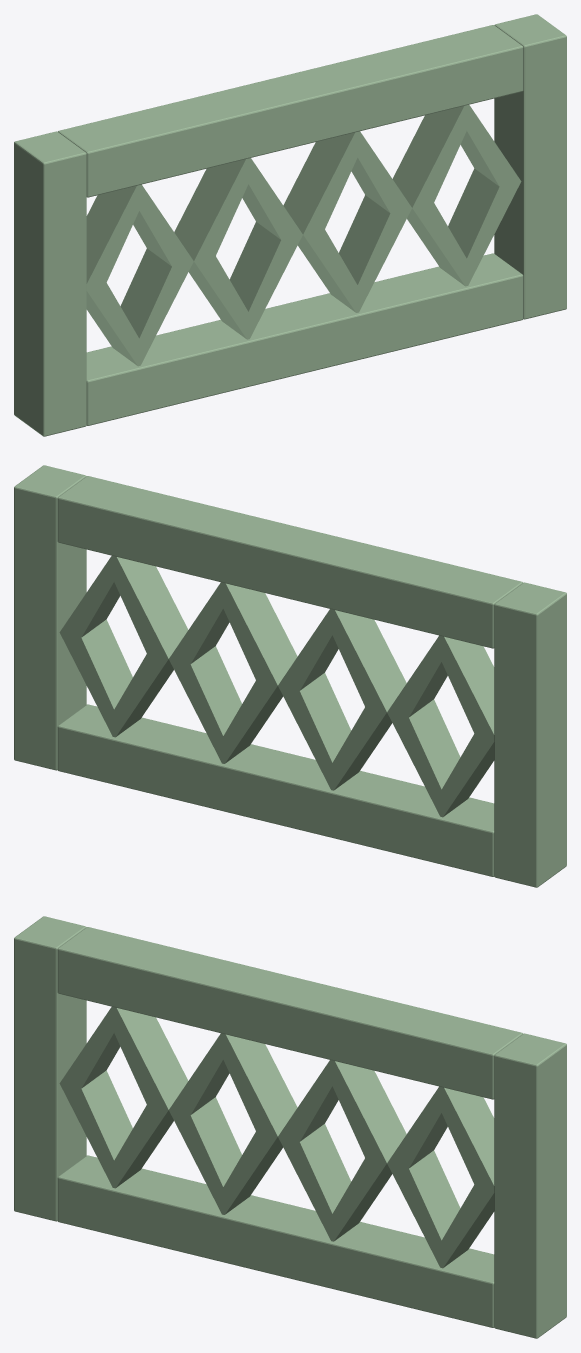
3 views of the same model, one above another, from view 1: azimuth 30°, elevation 25°; view 2: azimuth 150°, elevation 25°; view 3: azimuth 330°, elevation 25° (orthographic).
Visible parts, largest first — view 1: VENT_FrameTop, VENT_FrameBottom, VENT_FrameSide, VENT_FrameSide.001, VENT_Diamond_1_0, VENT_Diamond_2_0, VENT_Diamond_3_0, VENT_Diamond_2_2, VENT_Diamond_1_2, VENT_Diamond_0_2, VENT_Diamond_3_2, VENT_Diamond_0_0 (+8 smaller); view 2: VENT_FrameTop, VENT_FrameBottom, VENT_FrameSide, VENT_FrameSide.001, VENT_Diamond_1_0, VENT_Diamond_2_0, VENT_Diamond_3_0, VENT_Diamond_2_2, VENT_Diamond_1_2, VENT_Diamond_0_2, VENT_Diamond_3_2, VENT_Diamond_0_0 (+8 smaller); view 3: VENT_FrameTop, VENT_FrameBottom, VENT_FrameSide.001, VENT_FrameSide, VENT_Diamond_2_1, VENT_Diamond_1_1, VENT_Diamond_0_1, VENT_Diamond_1_3, VENT_Diamond_2_3, VENT_Diamond_3_3, VENT_Diamond_0_3, VENT_Diamond_3_1 (+8 smaller).
Boxes of the visible parts, x1=… form: VENT_FrameTop: x1=58, y1=25, x2=523, y2=197; VENT_FrameBottom: x1=86, y1=253, x2=523, y2=425; VENT_FrameSide: x1=14, y1=131, x2=86, y2=436; VENT_FrameSide.001: x1=494, y1=14, x2=566, y2=319; VENT_Diamond_1_0: x1=174, y1=158, x2=248, y2=261; VENT_Diamond_2_0: x1=283, y1=132, x2=357, y2=234; VENT_Diamond_3_0: x1=392, y1=105, x2=466, y2=207; VENT_Diamond_2_2: x1=339, y1=195, x2=411, y2=312; VENT_Diamond_1_2: x1=229, y1=222, x2=302, y2=339; VENT_Diamond_0_2: x1=120, y1=248, x2=193, y2=365; VENT_Diamond_3_2: x1=448, y1=168, x2=520, y2=285; VENT_Diamond_0_0: x1=86, y1=185, x2=139, y2=287; VENT_FrameTop: x1=57, y1=476, x2=522, y2=648; VENT_FrameBottom: x1=57, y1=704, x2=494, y2=876; VENT_FrameSide: x1=494, y1=582, x2=566, y2=887; VENT_FrameSide.001: x1=14, y1=465, x2=86, y2=770; VENT_Diamond_1_0: x1=332, y1=609, x2=406, y2=712; VENT_Diamond_2_0: x1=223, y1=583, x2=297, y2=685; VENT_Diamond_3_0: x1=114, y1=556, x2=188, y2=658; VENT_Diamond_2_2: x1=169, y1=646, x2=241, y2=763; VENT_Diamond_1_2: x1=278, y1=673, x2=351, y2=790; VENT_Diamond_0_2: x1=387, y1=699, x2=460, y2=816; VENT_Diamond_3_2: x1=60, y1=619, x2=132, y2=736; VENT_Diamond_0_0: x1=441, y1=636, x2=494, y2=738; VENT_FrameTop: x1=57, y1=927, x2=522, y2=1099; VENT_FrameBottom: x1=57, y1=1155, x2=494, y2=1327; VENT_FrameSide.001: x1=494, y1=1033, x2=566, y2=1338; VENT_FrameSide: x1=14, y1=916, x2=86, y2=1221; VENT_Diamond_2_1: x1=332, y1=1060, x2=406, y2=1163; VENT_Diamond_1_1: x1=223, y1=1034, x2=297, y2=1136; VENT_Diamond_0_1: x1=114, y1=1007, x2=188, y2=1109; VENT_Diamond_1_3: x1=169, y1=1097, x2=241, y2=1214; VENT_Diamond_2_3: x1=278, y1=1124, x2=351, y2=1241; VENT_Diamond_3_3: x1=387, y1=1150, x2=460, y2=1267; VENT_Diamond_0_3: x1=60, y1=1070, x2=132, y2=1187; VENT_Diamond_3_1: x1=441, y1=1087, x2=494, y2=1189.
Size of the model in its own units: 1.2 by 0.6 by 0.12.
